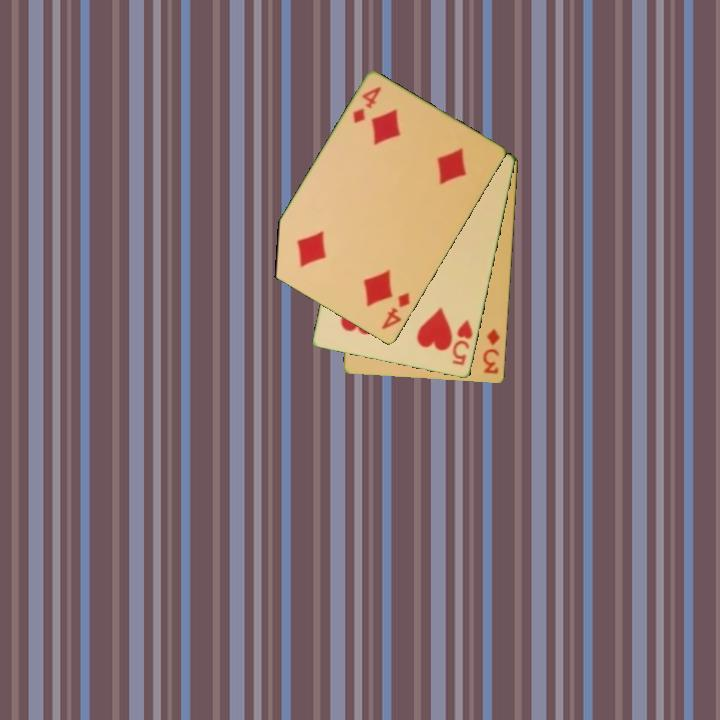3d: (480, 325, 503, 377)
4d: (378, 289, 413, 333), (349, 83, 384, 127)
5h: (449, 316, 476, 369)
